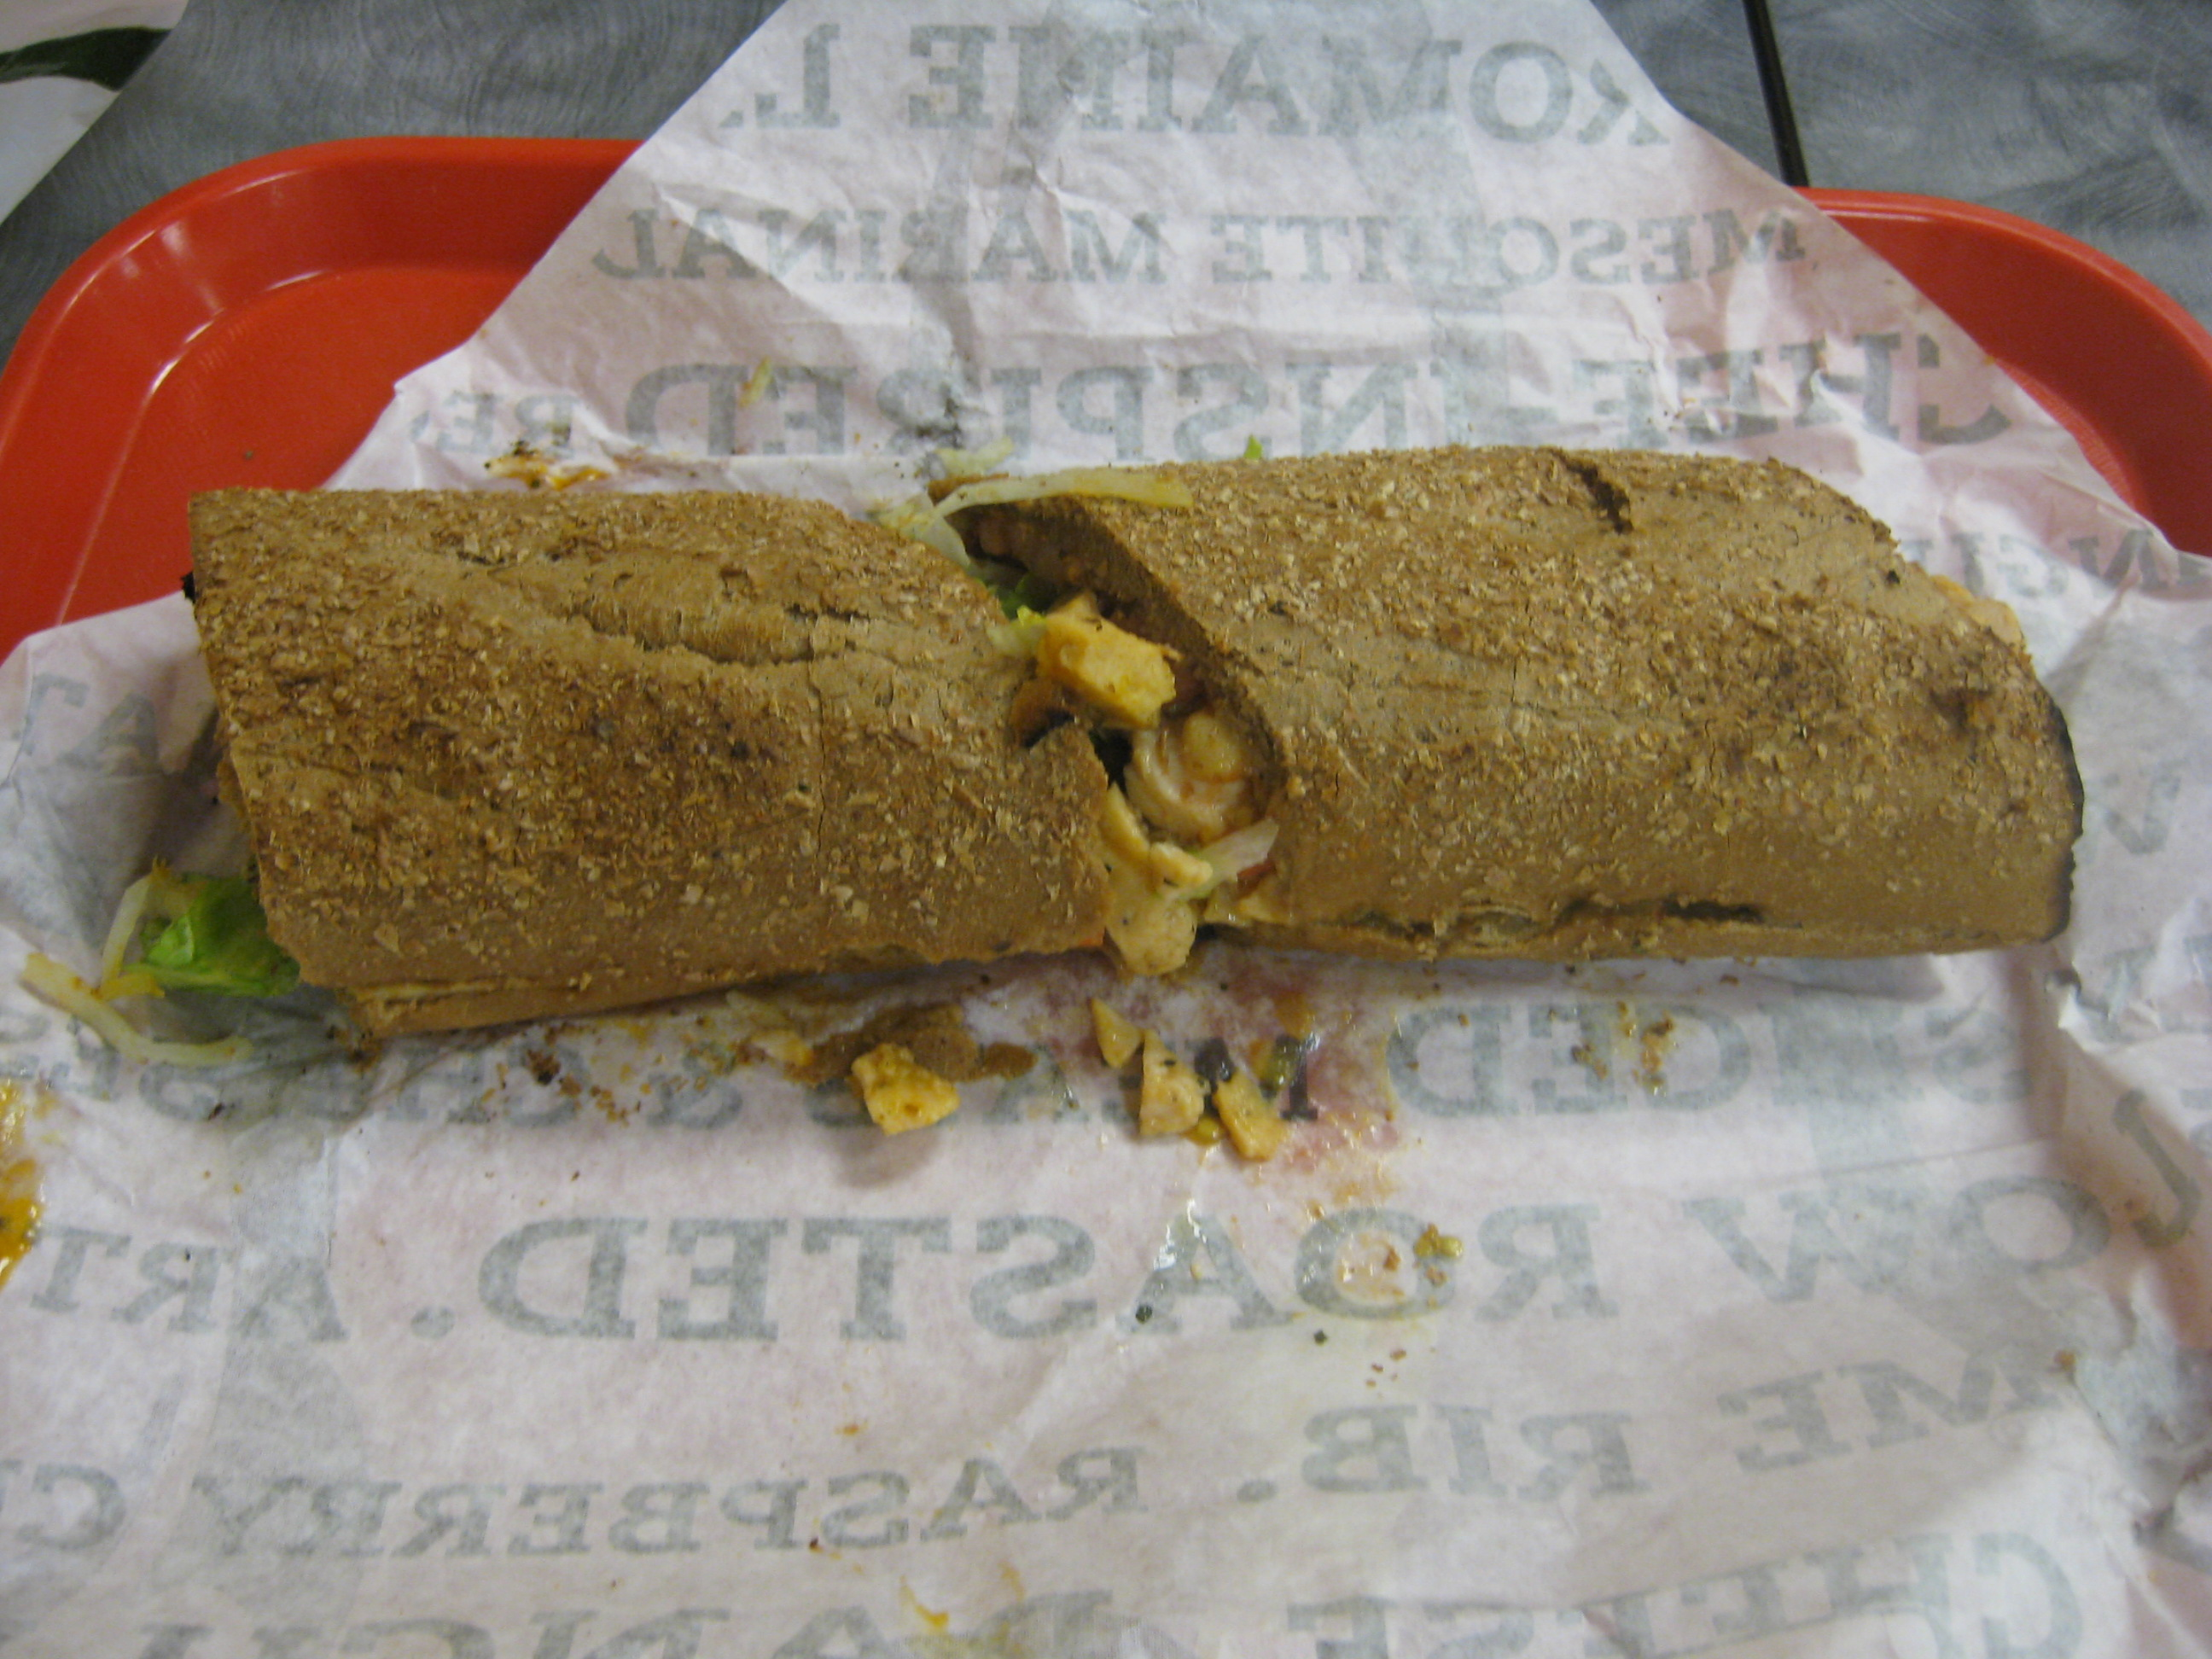sub: (151, 417, 2116, 1043)
